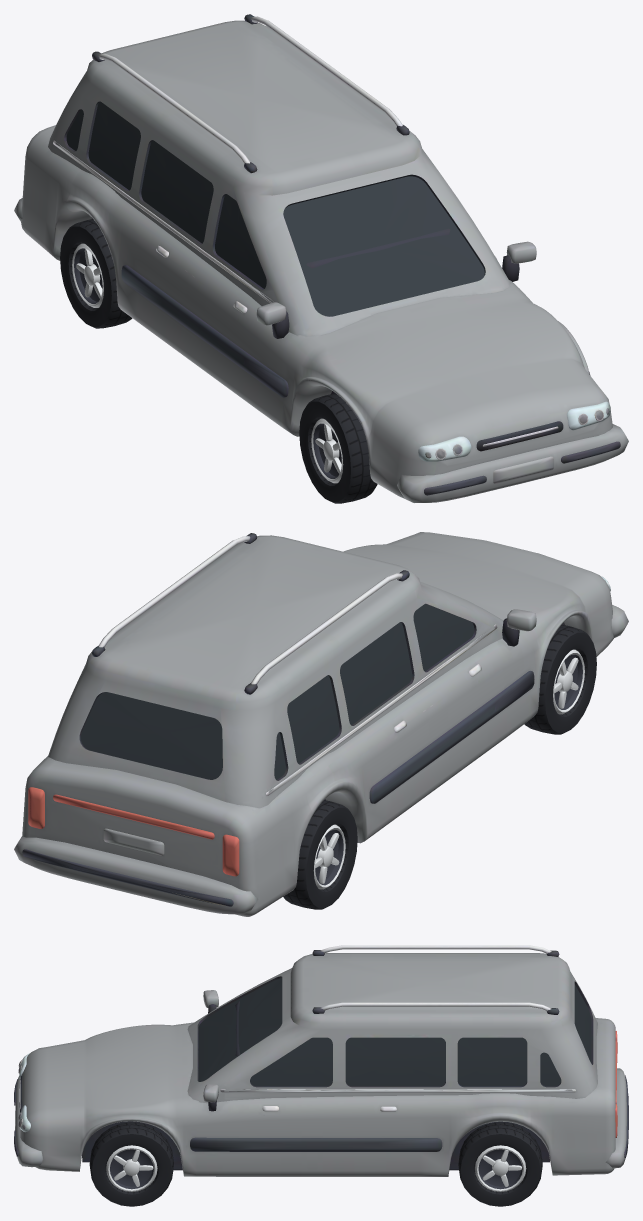
File: car_wagon.glb
3 renders of one model, top to bottom at view 1: azimuth 30°, elevation 25°; view 2: azimuth 150°, elevation 25°; view 3: azimuth 270°, elevation 25°, orthographic. The views are drawn at different scales.
Visible parts, largest first — view 1: 1990s-station-wagon_body, 1990s-station-wagon_windows, 1990s-station-wagon_wheel_fr, 1990s-station-wagon_wheel_rr; view 2: 1990s-station-wagon_body, 1990s-station-wagon_windows, 1990s-station-wagon_wheel_rr, 1990s-station-wagon_wheel_fr; view 3: 1990s-station-wagon_body, 1990s-station-wagon_windows, 1990s-station-wagon_wheel_fl, 1990s-station-wagon_wheel_rl.
Boxes of the visible parts, <box> form: 1990s-station-wagon_body: <box>14,14,628,502</box>; 1990s-station-wagon_windows: <box>66,101,484,316</box>; 1990s-station-wagon_wheel_fr: <box>299,393,377,503</box>; 1990s-station-wagon_wheel_rr: <box>60,219,132,328</box>; 1990s-station-wagon_body: <box>14,532,628,916</box>; 1990s-station-wagon_windows: <box>81,604,474,779</box>; 1990s-station-wagon_wheel_rr: <box>283,800,357,909</box>; 1990s-station-wagon_wheel_fr: <box>524,624,596,734</box>; 1990s-station-wagon_body: <box>14,945,628,1176</box>; 1990s-station-wagon_windows: <box>198,978,591,1086</box>; 1990s-station-wagon_wheel_fl: <box>89,1122,173,1206</box>; 1990s-station-wagon_wheel_rl: <box>458,1122,542,1206</box>.
Bounding box in the file's own units: 1.92 × 1.62 × 4.8.
Materials: 6 (2 with a texture image).
